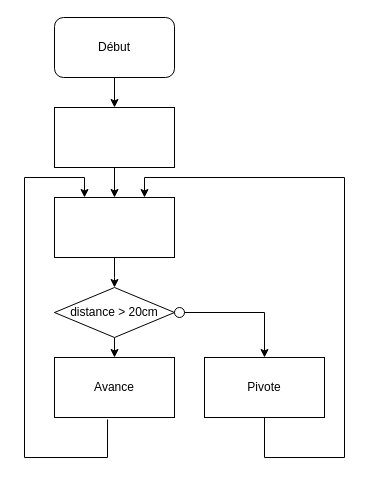
This 370x483 diagram has some shape labels left out. Here are the shapes that lost their labels. From the top down, the centre of each, then its label:
At pixel 114 137: "Initialisation capteur".
At pixel 114 227: "Mesure capteur distance".
